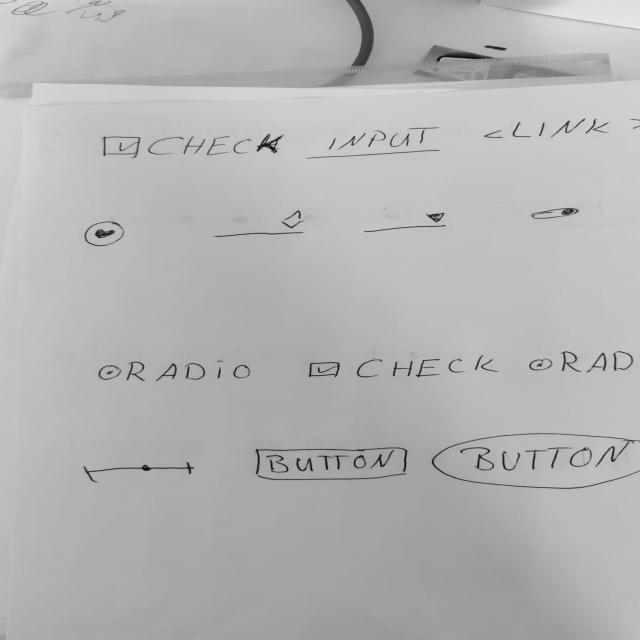button: (430, 433, 640, 492), (253, 447, 412, 483)
checkbox: (102, 131, 292, 161), (305, 354, 503, 381)
icon-button: (82, 222, 128, 249)
input: (305, 125, 447, 162)
link: (480, 116, 640, 144)
number-input: (207, 208, 311, 241)
radio: (96, 360, 258, 384)
select: (361, 211, 453, 237)
slider: (78, 461, 200, 485)
toggle: (526, 207, 582, 223)
